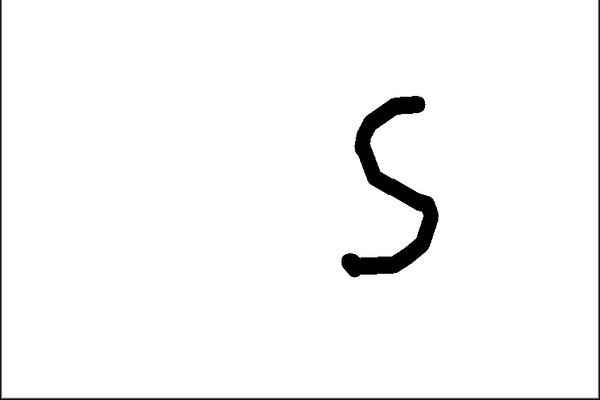S: (330, 89, 452, 289)
